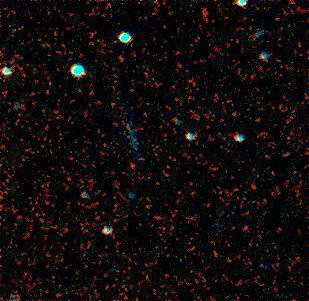star: (119, 149, 149, 179)
